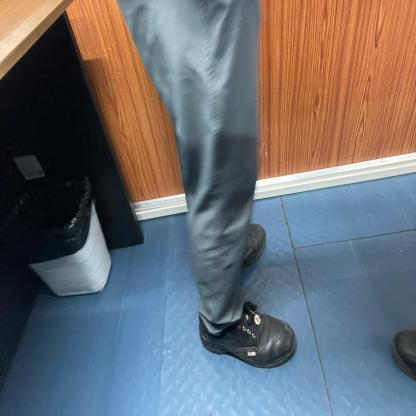bota: (198, 300, 297, 371), (240, 222, 268, 268)
